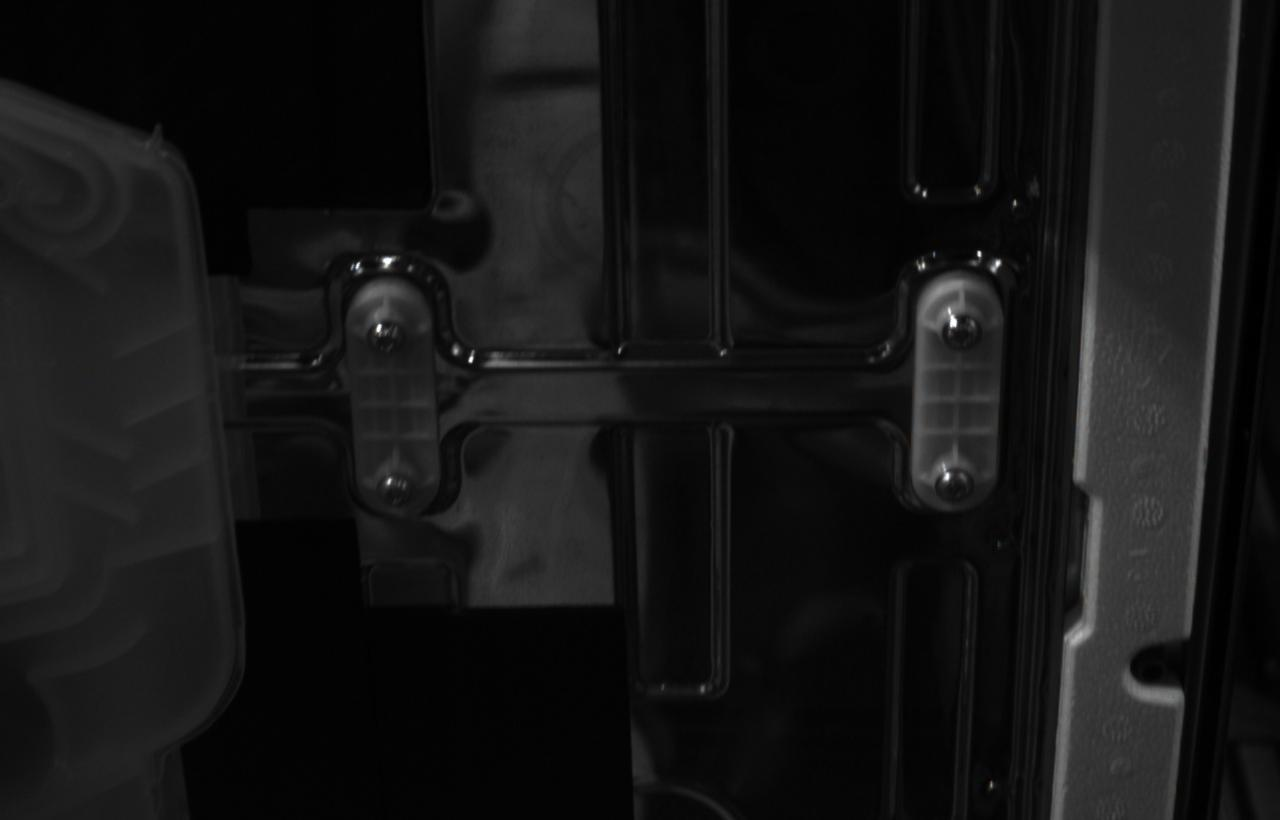vida-ok: (933, 465, 978, 509), (942, 312, 984, 354), (366, 319, 407, 360), (376, 470, 415, 511)
